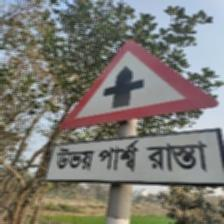Crossroad: (49, 38, 224, 188)
